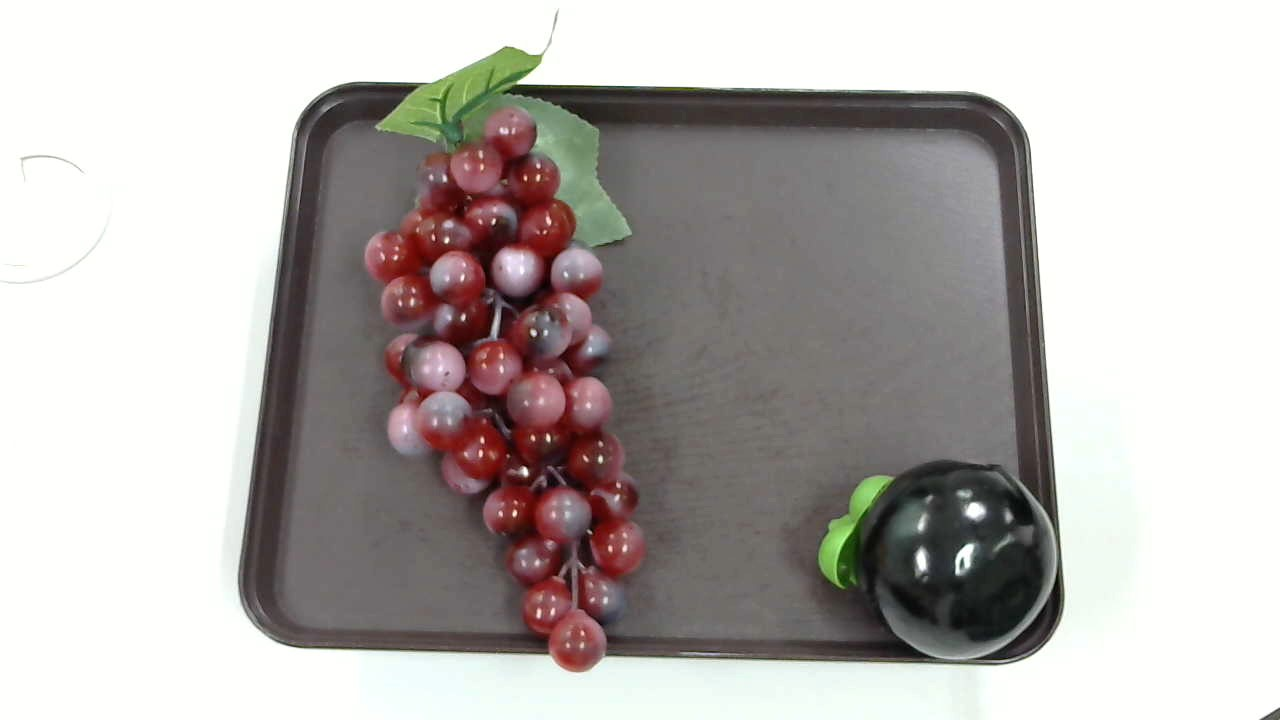grape: (357, 41, 671, 669)
mangosteen: (813, 456, 1057, 669)
